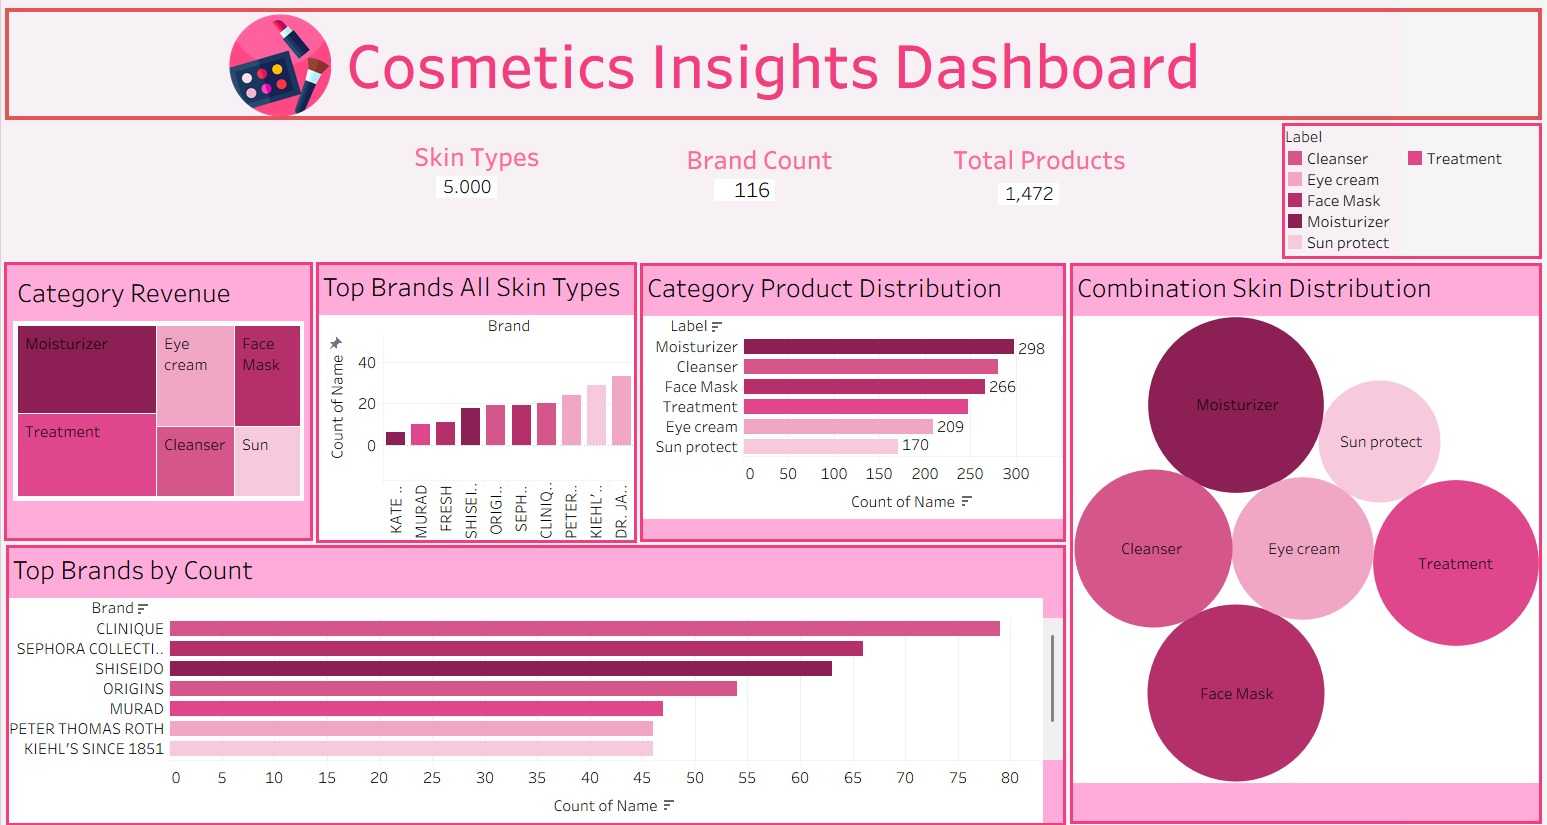

Layout of this report page (visuals, bound fields, positions):
{"tool":"tableau","page":{"name":"Cosmetics Insights Dashboard","canvas":[1000,1000],"units":"permille","ordinal":0},"visuals":[{"type":"image","param":"Image/make-up.png","box":[162.9,26,92.9,120.4]},{"type":"blank","box":[5.7,63.8,988.6,926.8]},{"type":"text","box":[487.1,151.1,115,92.1]},{"type":"text","box":[677.9,151.1,134.3,92.1]},{"type":"text","box":[292.9,171.2,100,44.9]},{"type":"worksheet","title":"KPI Skin Types","mark":"Automatic","box":[310.7,217.2,45.7,61.4]},{"type":"worksheet","title":"KPI Brand Count","mark":"Automatic","box":[509.3,220.8,61.4,63.8]},{"type":"worksheet","title":"Category Revenue","mark":"Automatic","box":[2.1,318.8,220.7,329.4]},{"type":"worksheet","title":"Top Brands All Skin Types","mark":"Automatic","rows":["Name"],"cols":["Brand"],"box":[225,318.8,229.3,331.8]},{"type":"worksheet","title":"Category Product Distribution","mark":"Automatic","rows":["Label"],"cols":["Name"],"box":[456.4,319.9,304.3,329.4]},{"type":"blank","box":[517.1,337.7,332.9,332.9]},{"type":"worksheet","title":"Top Brands by Count","mark":"Automatic","rows":["Brand"],"cols":["Name"],"box":[3.6,652.9,757.1,331.8]}]}

Visuals, with their boxes on the dashboard's canvas, which has no fixed pixel size, in thousandths of its width and height (x1, y1, x2, y2). These are canvas units, not pixel positions in the 1547x825 screenshot, which may show the page scaled, cropped or inside an application window:
image: {"x1": 163, "y1": 26, "x2": 256, "y2": 146}
blank: {"x1": 6, "y1": 64, "x2": 994, "y2": 991}
text: {"x1": 487, "y1": 151, "x2": 602, "y2": 243}
text: {"x1": 678, "y1": 151, "x2": 812, "y2": 243}
text: {"x1": 293, "y1": 171, "x2": 393, "y2": 216}
"KPI Skin Types" worksheet: {"x1": 311, "y1": 217, "x2": 356, "y2": 279}
"KPI Brand Count" worksheet: {"x1": 509, "y1": 221, "x2": 571, "y2": 285}
"Category Revenue" worksheet: {"x1": 2, "y1": 319, "x2": 223, "y2": 648}
"Top Brands All Skin Types" worksheet: {"x1": 225, "y1": 319, "x2": 454, "y2": 651}
"Category Product Distribution" worksheet: {"x1": 456, "y1": 320, "x2": 761, "y2": 649}
blank: {"x1": 517, "y1": 338, "x2": 850, "y2": 671}
"Top Brands by Count" worksheet: {"x1": 4, "y1": 653, "x2": 761, "y2": 985}
